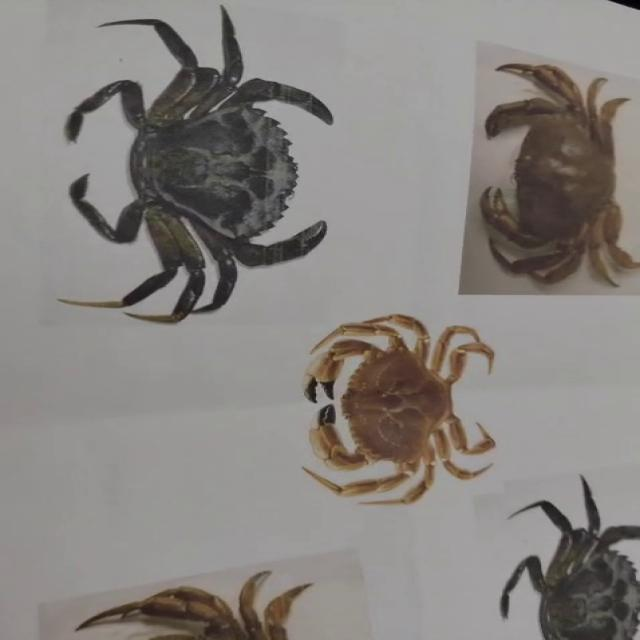egc: (62, 7, 332, 323), (501, 476, 639, 639)
